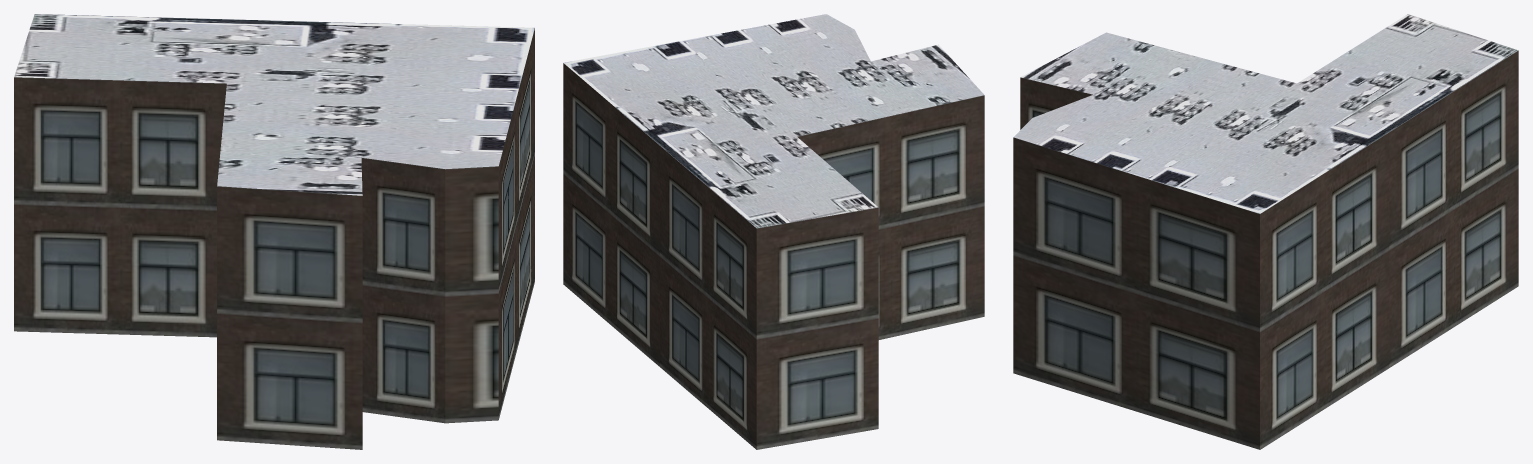
File: ResTex__3708.fbx
3 views of the same model, side by side, from view 1: azimuth 30°, elevation 25°; view 2: azimuth 150°, elevation 25°; view 3: azimuth 270°, elevation 25° (orthographic). The views are drawn at different scales.
Visible parts, largest first — view 1: CityEngineMaterial_16_m, CityEngineMaterial_15_m; view 2: CityEngineMaterial_16_m, CityEngineMaterial_15_m; view 3: CityEngineMaterial_16_m, CityEngineMaterial_15_m.
Part boxes in pixels (x1,y1,x2,y2): CityEngineMaterial_16_m: [14, 28, 534, 449]; CityEngineMaterial_15_m: [14, 14, 534, 195]; CityEngineMaterial_16_m: [563, 63, 984, 449]; CityEngineMaterial_15_m: [563, 14, 984, 228]; CityEngineMaterial_16_m: [1013, 50, 1518, 449]; CityEngineMaterial_15_m: [1013, 14, 1517, 213].
Bounding box in the file's own units: 10.9 × 6 × 11.64.
Materials: 2 (2 with a texture image).
